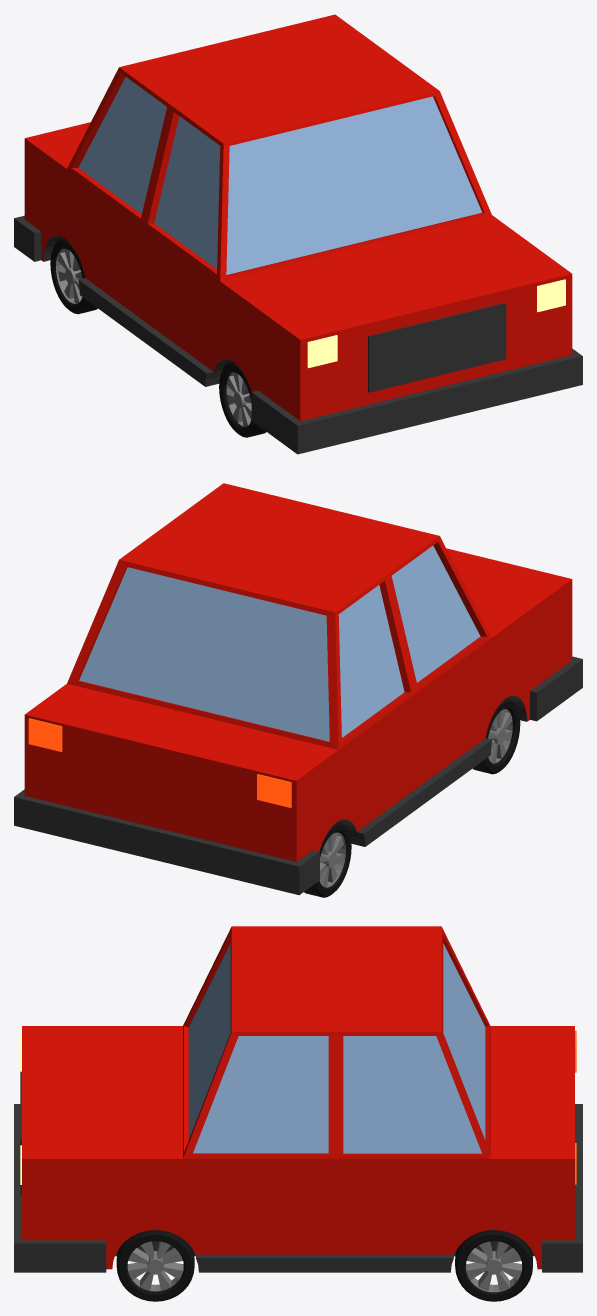
Rendered from low_poly_car.fbx.
3 renders of one model, top to bottom at view 1: azimuth 30°, elevation 25°; view 2: azimuth 150°, elevation 25°; view 3: azimuth 270°, elevation 25°, orthographic.
Visible parts, largest first — view 1: Car; view 2: Car; view 3: Car.
Boxes of the visible parts, box(x1,y1,x2,y2) form: Car: box(14, 14, 582, 454); Car: box(14, 483, 582, 897); Car: box(14, 926, 582, 1301).
Bounding box in the file's own units: 210 × 181 × 361.
